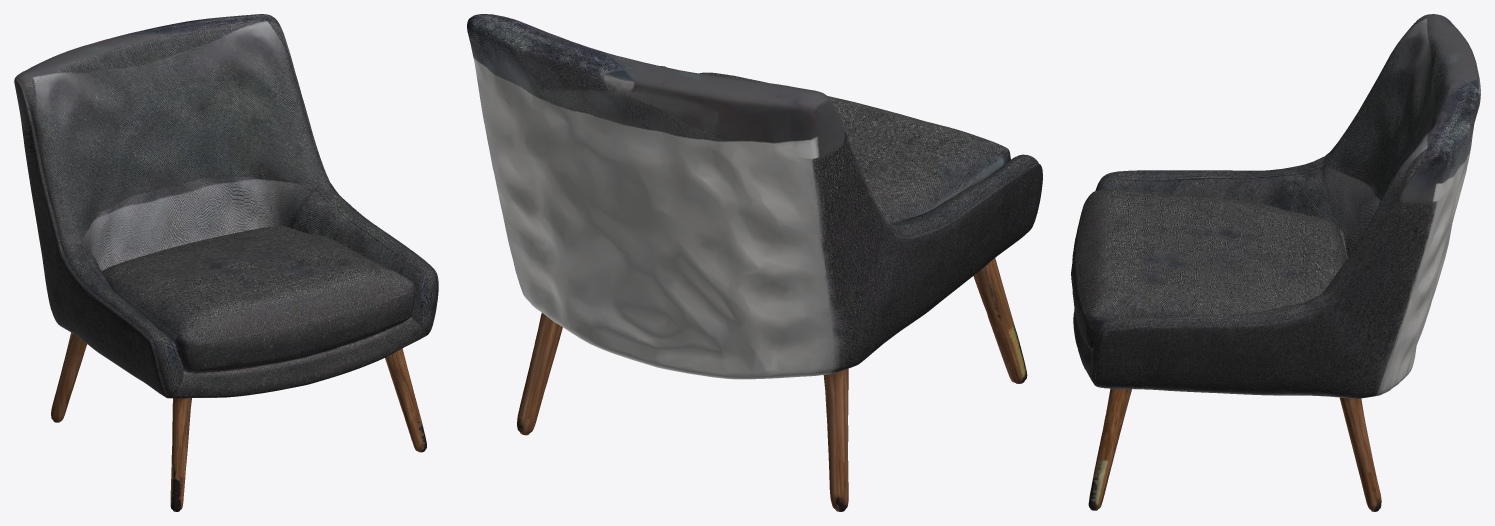
The model's file is chair_lounge.glb.
The picture shows the model from 3 angles, left to right: view 1: azimuth 30°, elevation 25°; view 2: azimuth 150°, elevation 25°; view 3: azimuth 270°, elevation 25°; orthographic projection. The views are drawn at different scales.
Parts seen in each view (by area): view 1: Mesh_0; view 2: Mesh_0; view 3: Mesh_0.
Boxes of the visible parts, <box> form: Mesh_0: <box>14,14,438,511</box>; Mesh_0: <box>467,14,1042,511</box>; Mesh_0: <box>1071,14,1480,511</box>.
Size of the model in its own units: 1.73 by 1.89 by 1.91.
Materials: 1 (1 with a texture image).
